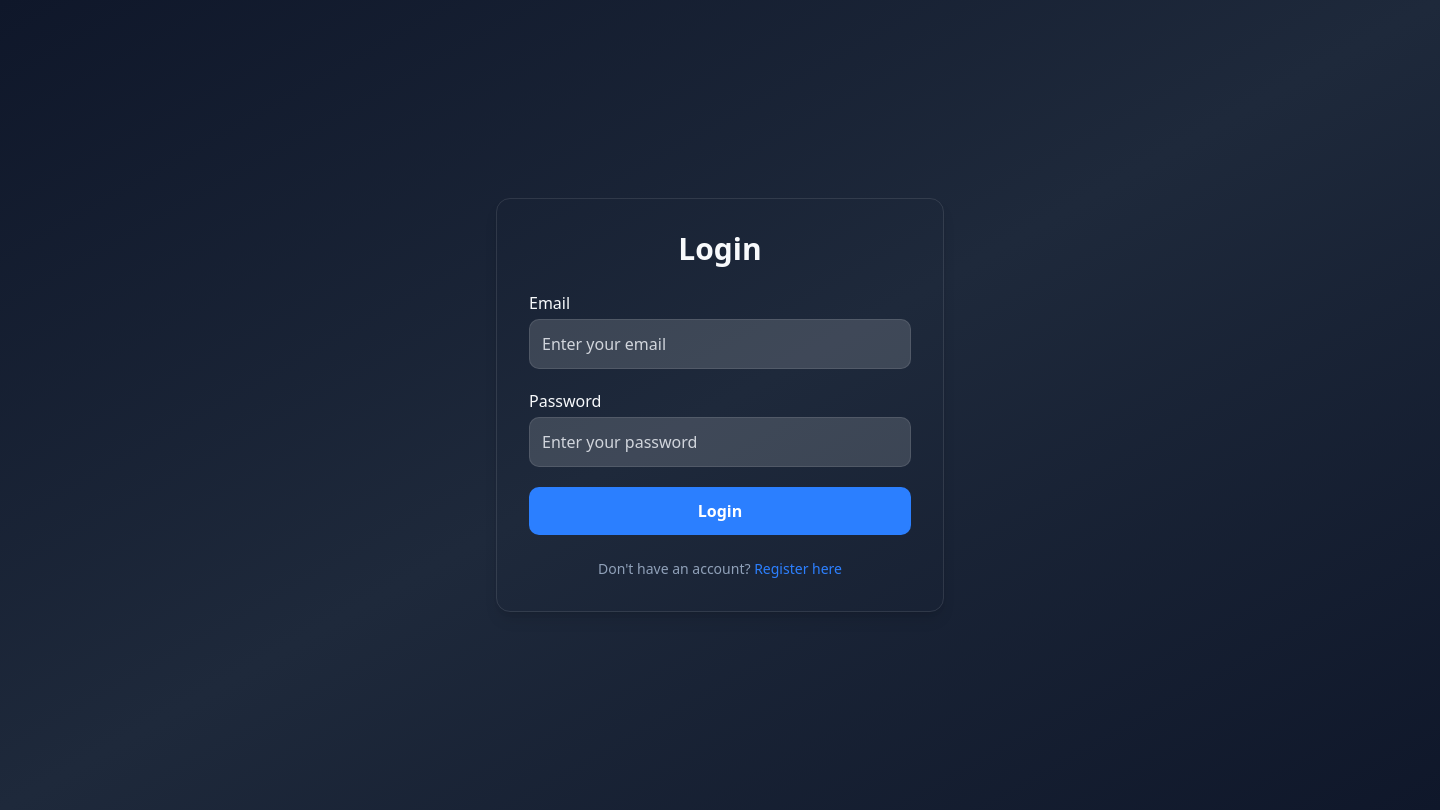
Test case: Login Page › Error Handling › displays error message on failed login
The image size is (1440, 810).
Step 1. Type "wrong@example.com" into the field with placeholder "Enter your email" → (720, 344), box x1=529 y1=319 x2=911 y2=369
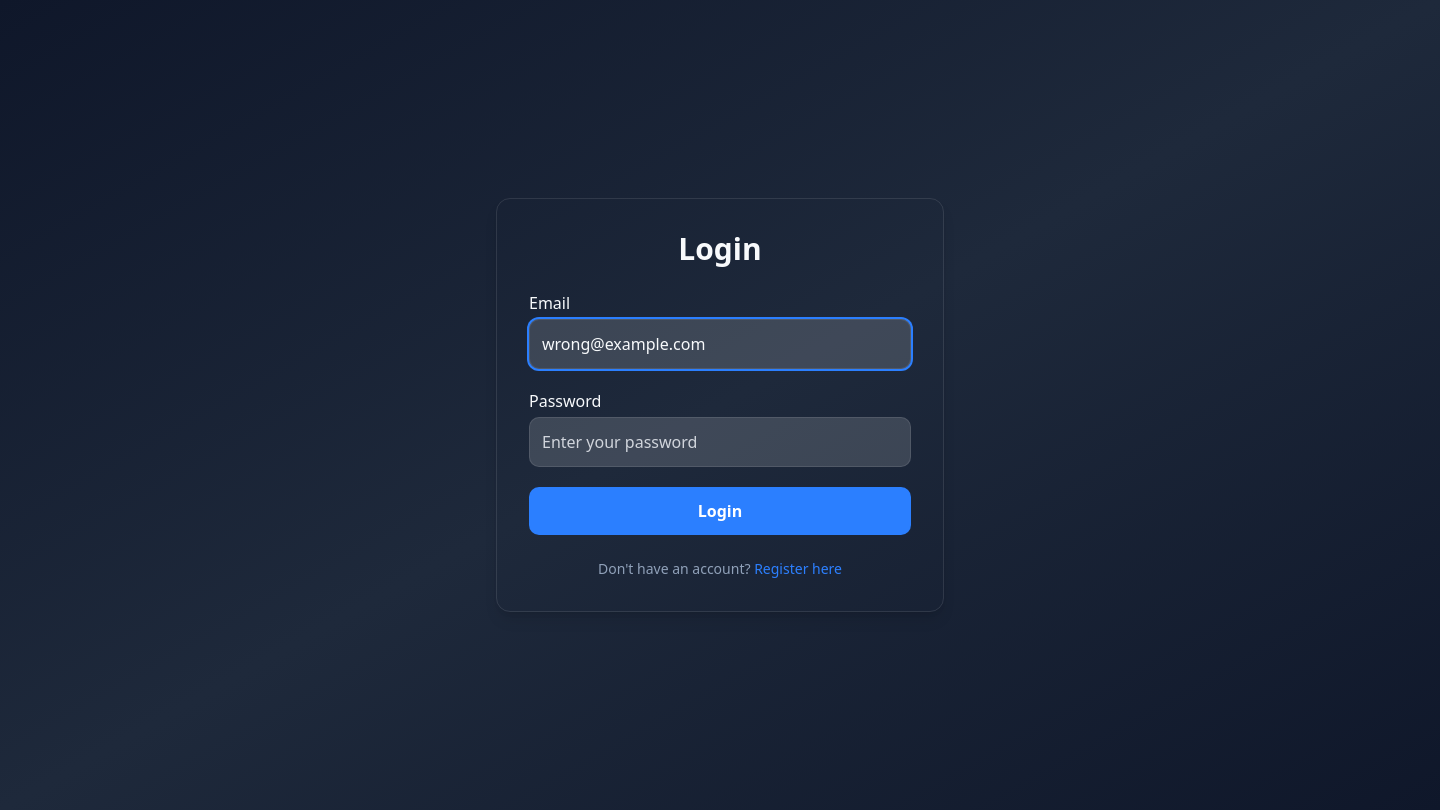
Step 2. Type "wrongpass" into the password field with placeholder "Enter your password" → (720, 442), box x1=529 y1=417 x2=911 y2=467
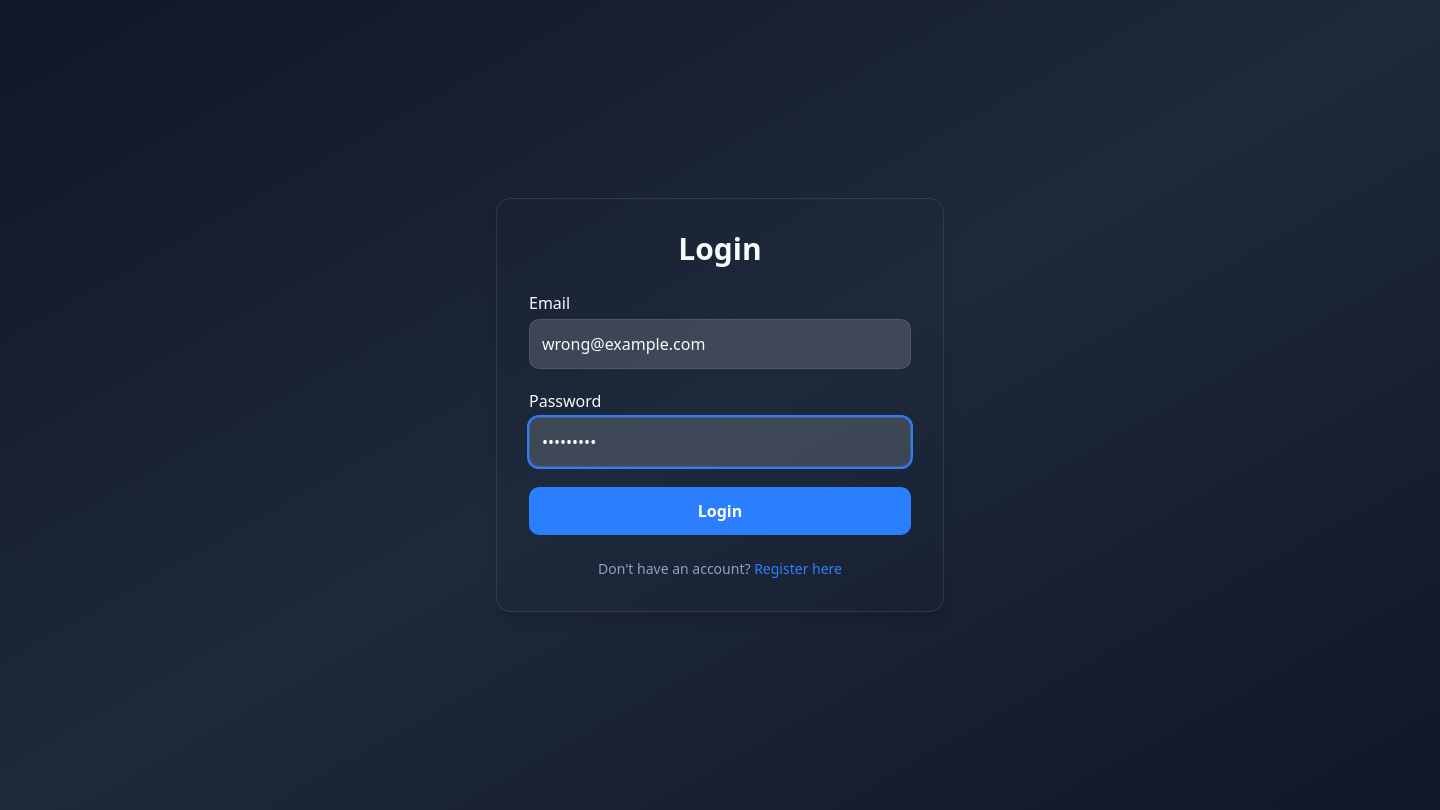
Step 3. Click the button "Login" → (720, 511), box x1=529 y1=487 x2=911 y2=535
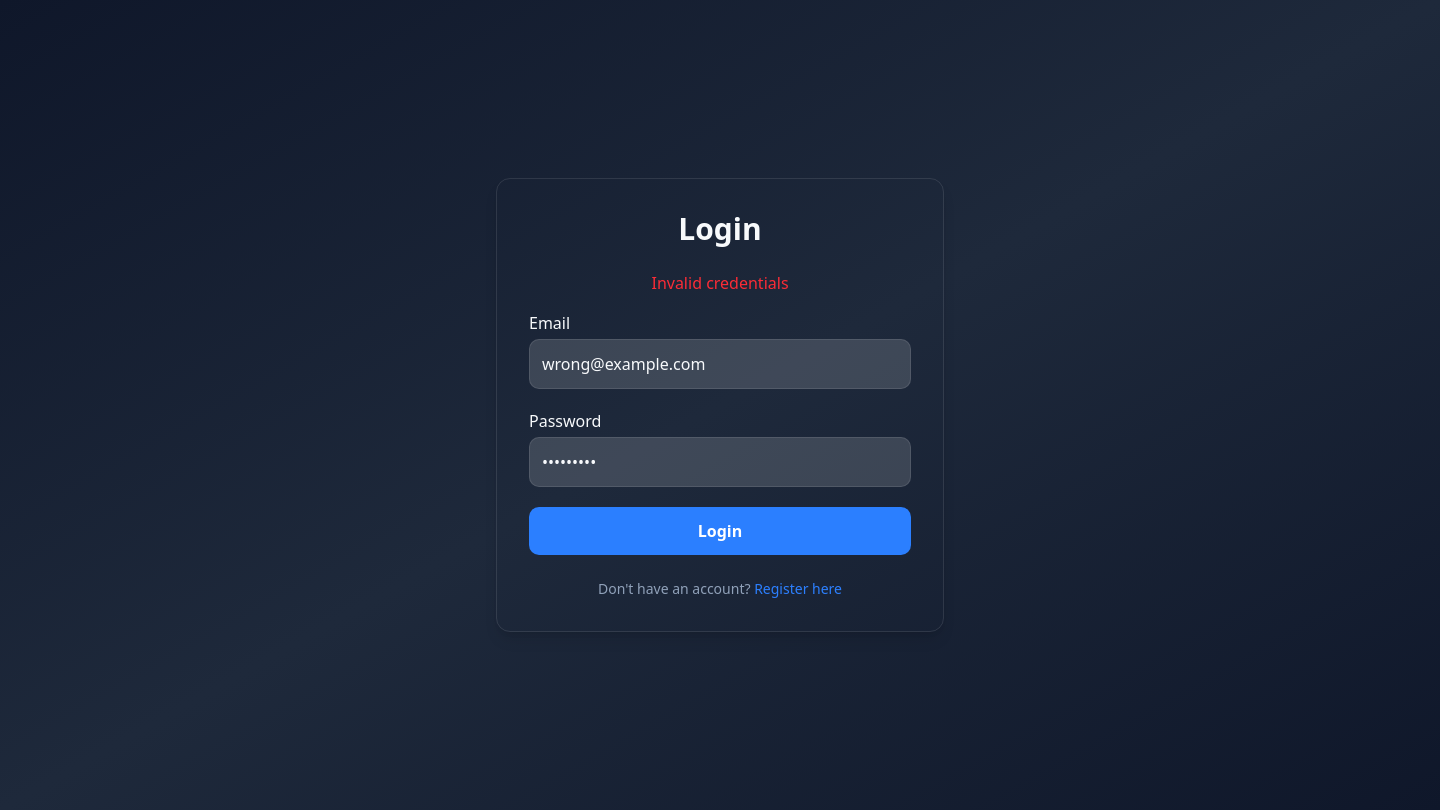
expect the text "Invalid credentials" is shown: met, box x1=652 y1=272 x2=789 y2=294
